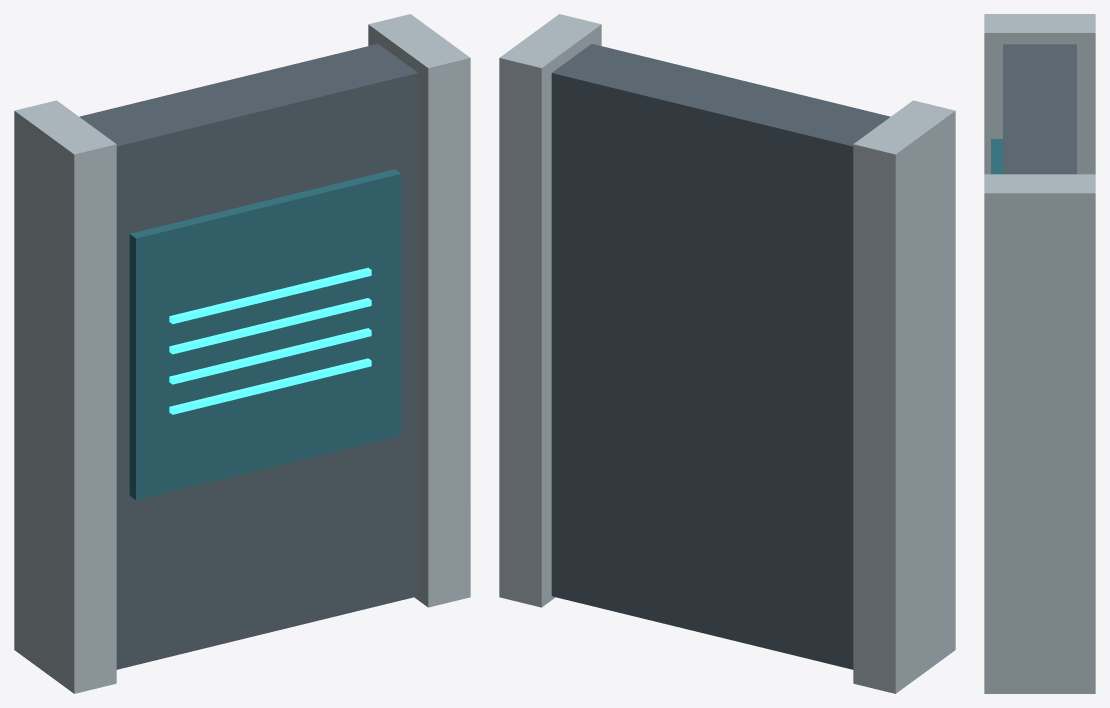
File: cuda-wall.glb
3 views of the same model, side by side, from view 1: azimuth 30°, elevation 25°; view 2: azimuth 150°, elevation 25°; view 3: azimuth 270°, elevation 25° (orthographic). The views are drawn at different scales.
Visible parts, largest first — view 1: reinforced panel, glowing status panel, vertical edge column, vertical edge column.001, telemetry line, telemetry line.002, telemetry line.003, telemetry line.001; view 2: reinforced panel, vertical edge column, vertical edge column.001; view 3: vertical edge column.001, reinforced panel, vertical edge column, glowing status panel.
Boxes of the visible parts, x1=… form: reinforced panel: x1=79, y1=44, x2=418, y2=669; glowing status panel: x1=129, y1=169, x2=401, y2=499; vertical edge column: x1=14, y1=100, x2=116, y2=693; vertical edge column.001: x1=368, y1=14, x2=470, y2=607; telemetry line: x1=169, y1=358, x2=371, y2=414; telemetry line.002: x1=169, y1=298, x2=371, y2=354; telemetry line.003: x1=169, y1=267, x2=371, y2=324; telemetry line.001: x1=169, y1=328, x2=371, y2=384; reinforced panel: x1=551, y1=44, x2=890, y2=669; vertical edge column: x1=853, y1=100, x2=955, y2=693; vertical edge column.001: x1=499, y1=14, x2=601, y2=607; vertical edge column.001: x1=984, y1=174, x2=1095, y2=693; reinforced panel: x1=1003, y1=44, x2=1076, y2=174; vertical edge column: x1=984, y1=14, x2=1095, y2=174; glowing status panel: x1=991, y1=139, x2=1002, y2=174.
Bounding box in the file's own units: 1.03 × 1.34 × 0.27.
